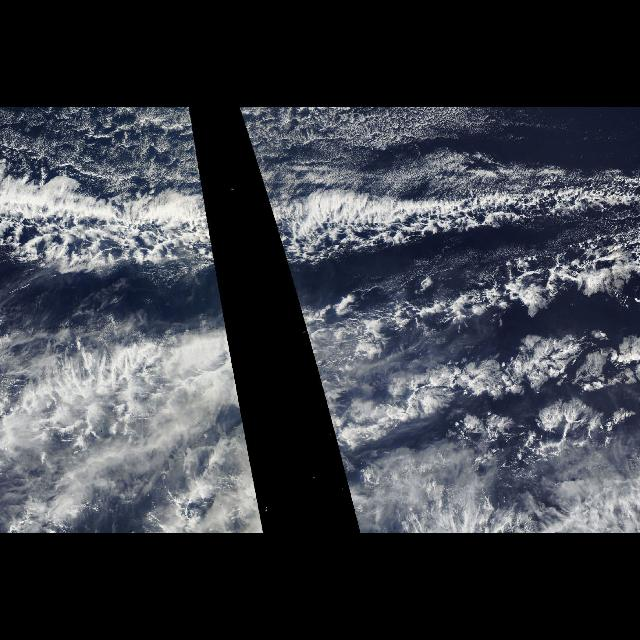Fish: (252, 148, 640, 336), (1, 148, 230, 336)
Sugar: (248, 137, 580, 187)
